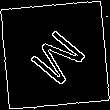M_SE: (20, 21, 90, 89)
